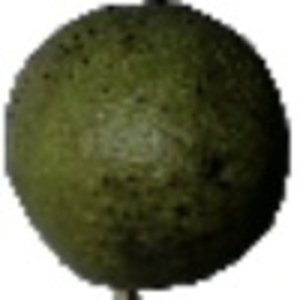abacate: (4, 1, 289, 291)
